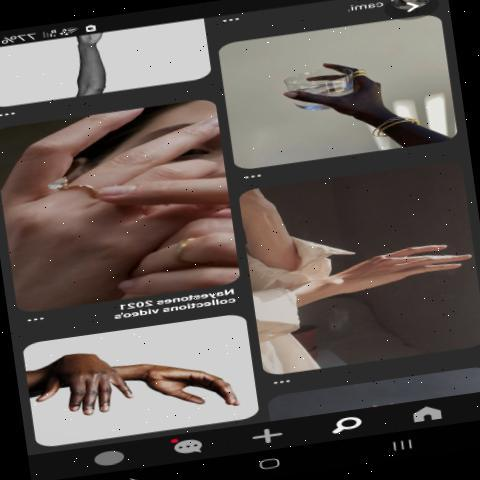Hands: (303, 224, 474, 329), (276, 49, 402, 131), (31, 348, 141, 426), (132, 349, 248, 419)
